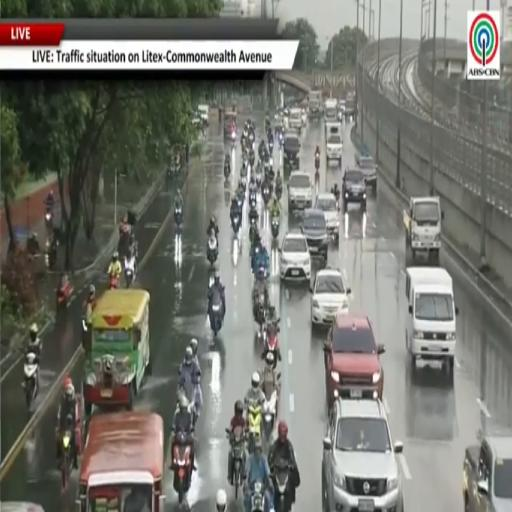car: (322, 399, 404, 511), (324, 314, 384, 405), (310, 268, 351, 325), (279, 232, 311, 281), (301, 208, 329, 263), (315, 192, 339, 239), (342, 168, 366, 213), (288, 171, 312, 212), (356, 154, 377, 197), (283, 131, 300, 170), (289, 107, 302, 133), (198, 105, 209, 125)
jeepney: (76, 411, 165, 511), (84, 290, 150, 415), (224, 110, 237, 141), (0, 502, 44, 511)
motorcycle: (173, 431, 191, 504), (227, 427, 244, 499), (179, 377, 200, 425), (273, 459, 292, 511), (262, 390, 277, 445), (24, 351, 38, 408), (247, 401, 262, 454), (61, 429, 72, 488), (265, 325, 278, 369), (209, 298, 223, 337), (57, 280, 73, 311), (255, 294, 266, 339), (45, 236, 58, 269), (251, 482, 265, 511), (81, 316, 91, 354), (207, 236, 218, 264), (45, 208, 53, 235), (174, 206, 182, 229), (125, 267, 133, 289), (231, 215, 240, 234), (268, 159, 275, 183), (240, 157, 248, 178), (271, 217, 279, 238), (250, 218, 256, 245), (262, 186, 270, 205), (249, 191, 257, 209), (109, 275, 118, 290), (258, 141, 265, 159), (237, 194, 244, 211), (276, 183, 282, 200), (224, 162, 230, 179), (249, 132, 254, 151), (249, 151, 254, 168), (241, 176, 247, 190), (315, 154, 320, 170), (256, 173, 261, 187), (231, 131, 236, 145), (269, 140, 274, 154), (279, 132, 283, 148)
truck: (463, 434, 511, 511), (403, 197, 443, 266), (308, 91, 322, 118), (344, 91, 356, 118)
